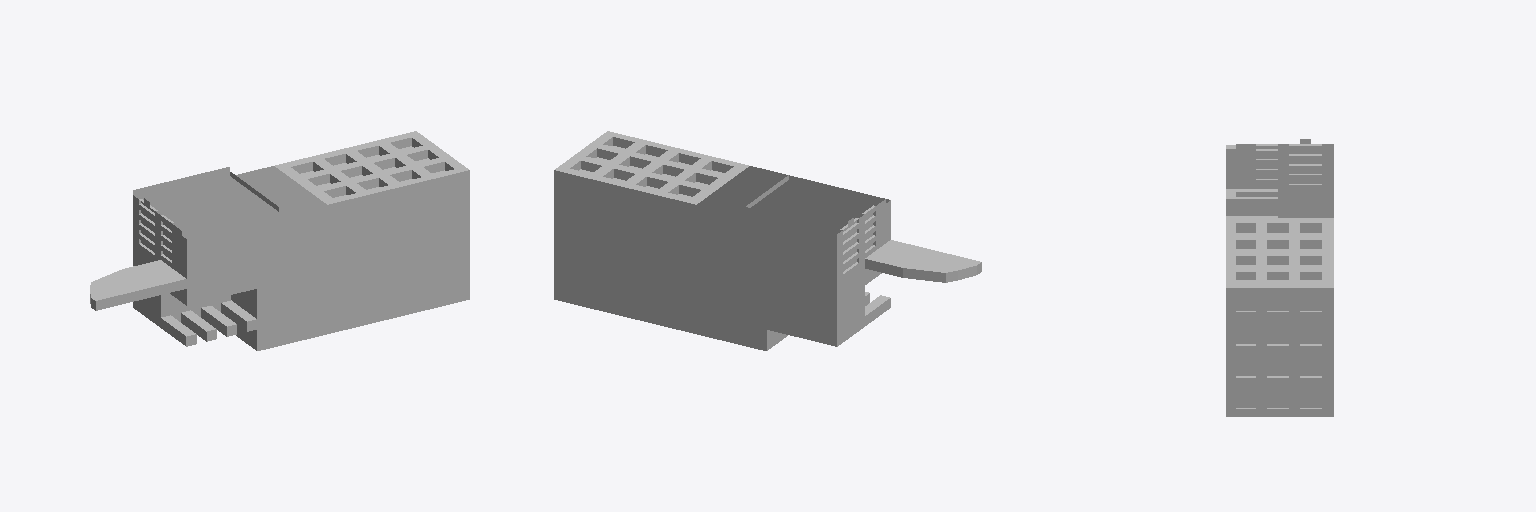
Rendered from jedna druga lasy.obj.
3 renders of one model, left to right at view 1: azimuth 30°, elevation 25°; view 2: azimuth 150°, elevation 25°; view 3: azimuth 270°, elevation 25°, orthographic.
Parts seen in each view (by area): view 1: Lasy_Państwowe_Cube.001; view 2: Lasy_Państwowe_Cube.001; view 3: Lasy_Państwowe_Cube.001.
Part boxes in pixels (left/top/right/bottom): Lasy_Państwowe_Cube.001: left=90, top=131, right=469, bottom=350; Lasy_Państwowe_Cube.001: left=554, top=131, right=981, bottom=350; Lasy_Państwowe_Cube.001: left=1226, top=139, right=1333, bottom=416.
Size of the model in its own units: 0.051 by 0.0182 by 0.0126.